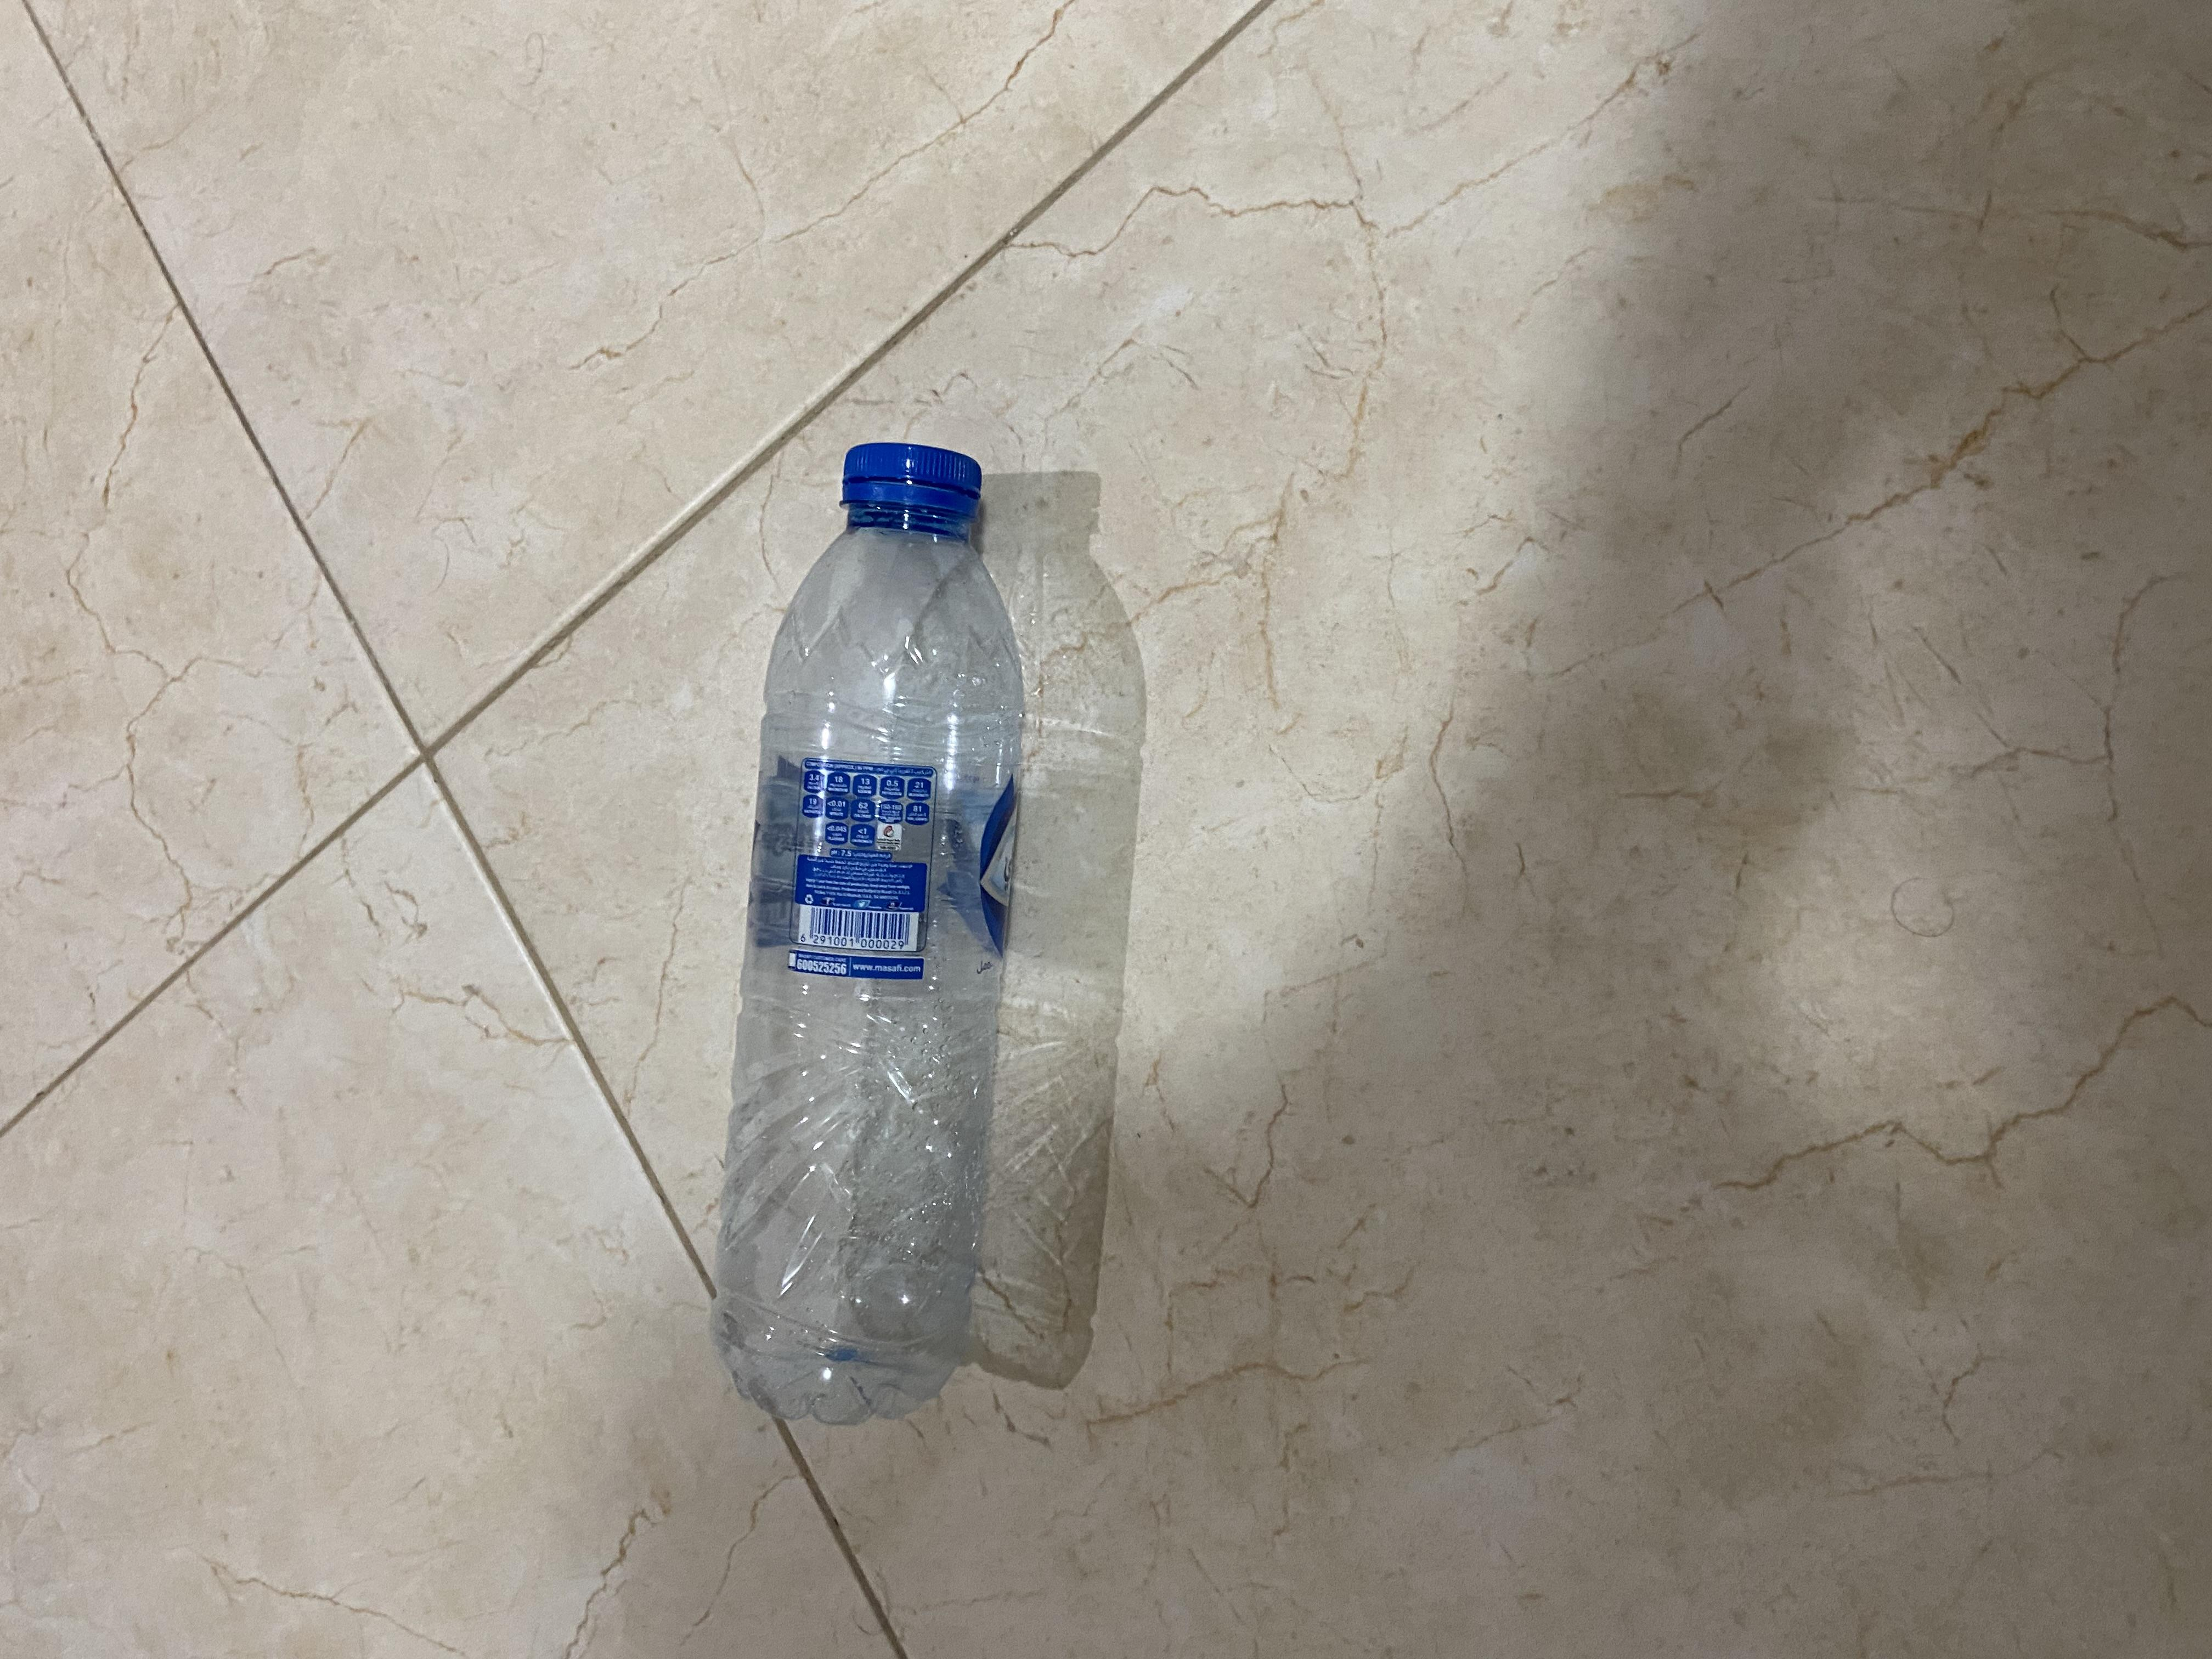bottle: (266, 523, 1644, 800)
